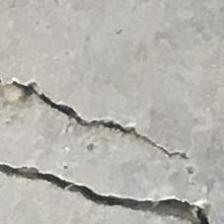Crack: (0, 69, 219, 224)
